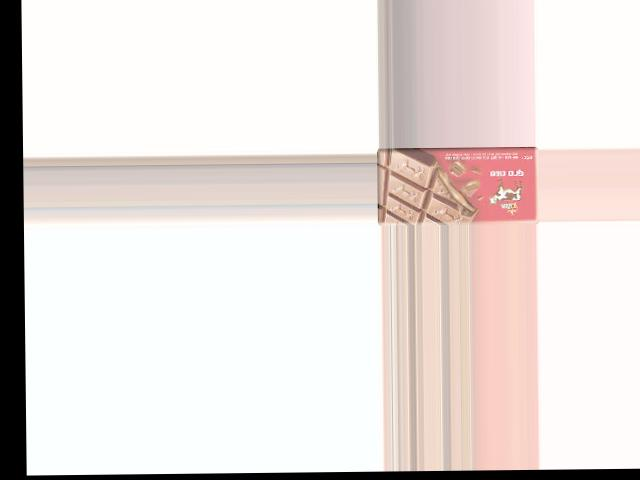chocolate: (379, 147, 539, 225)
